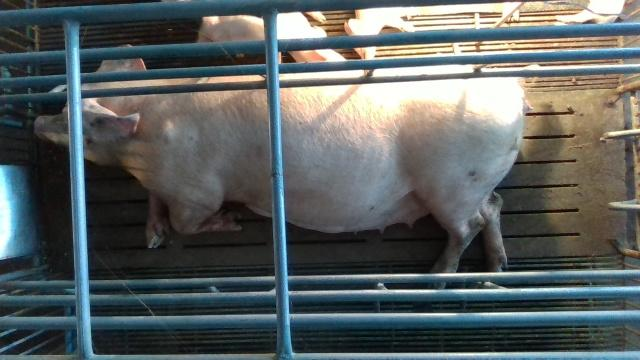piglet: (198, 15, 282, 65), (275, 11, 351, 62), (344, 8, 415, 59), (557, 0, 626, 24)
sow-sleep: (33, 58, 525, 292)
